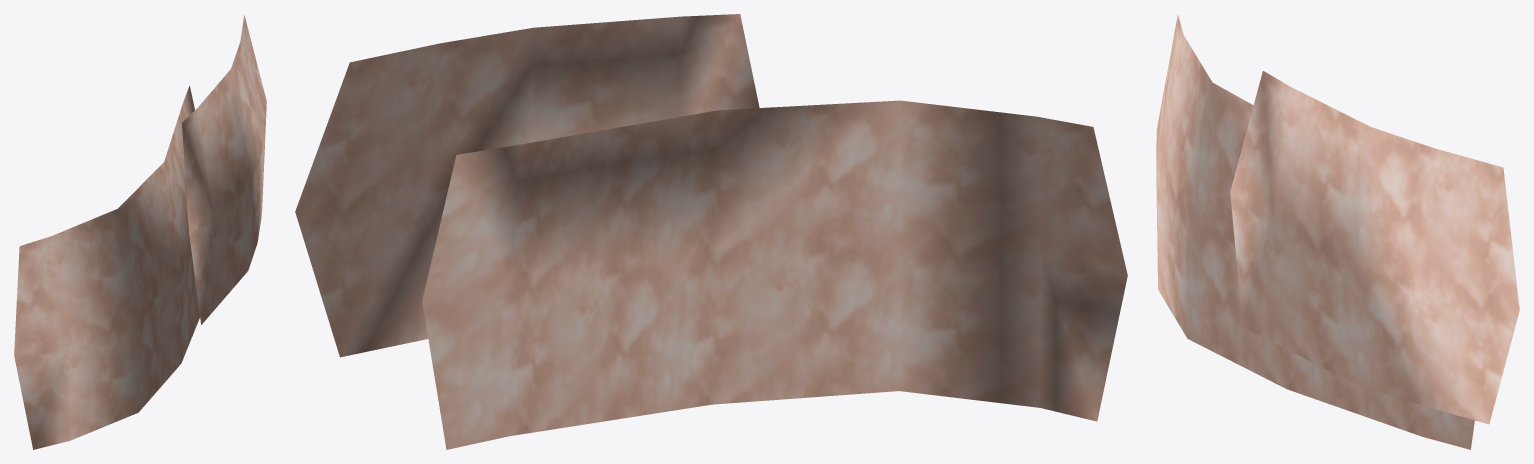
Rendered from stg210_MotCloud_06.obj.
3 views of the same model, side by side, from view 1: azimuth 30°, elevation 25°; view 2: azimuth 150°, elevation 25°; view 3: azimuth 270°, elevation 25° (orthographic). The views are drawn at different scales.
Parts seen in each view (by area): view 1: polygon0; view 2: polygon0; view 3: polygon0.
Boxes of the visible parts, x1,y1,x2,y2 form: polygon0: (14,15,266,449); polygon0: (295,14,1127,449); polygon0: (1156,15,1519,449).
Bounding box in the file's own units: 1844 × 1107 × 1165.
1 material, 1 textured.
